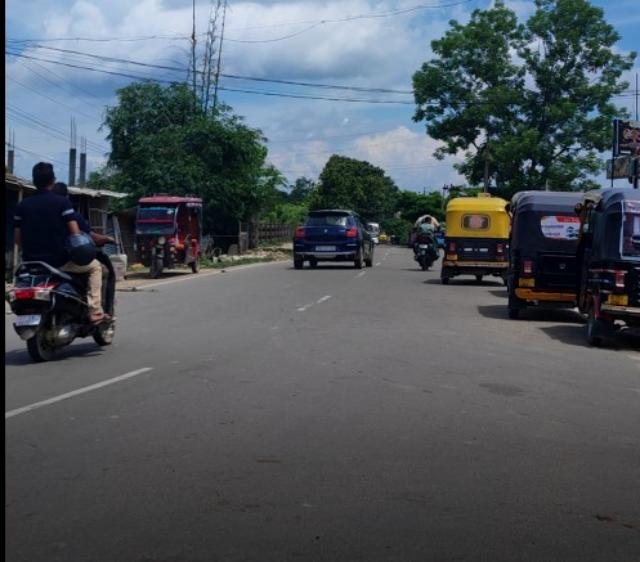licensePlate: (12, 313, 40, 327)
motorcycle: (0, 161, 112, 364)
withoutHelmet: (29, 163, 59, 192)
